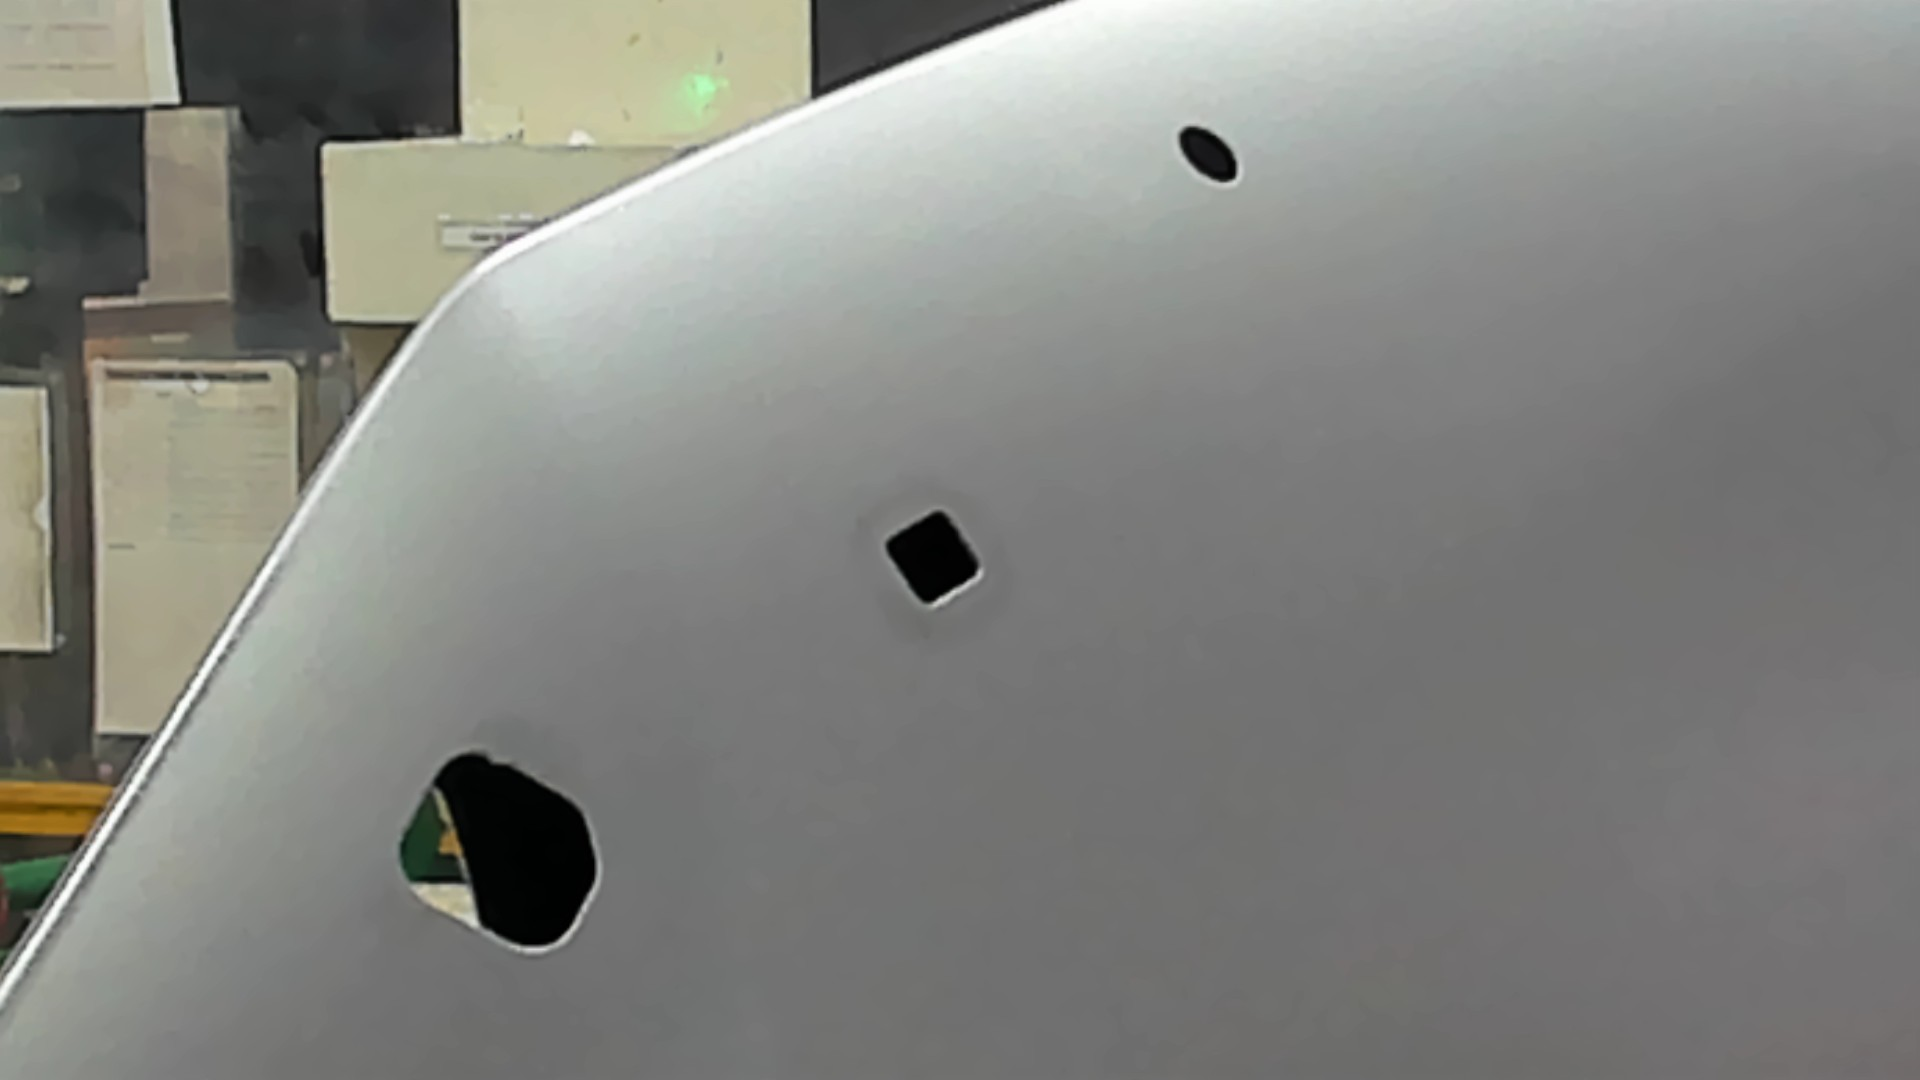chico: (1166, 113, 1269, 194)
grande: (375, 729, 633, 981)
mediano: (860, 491, 1015, 628)
